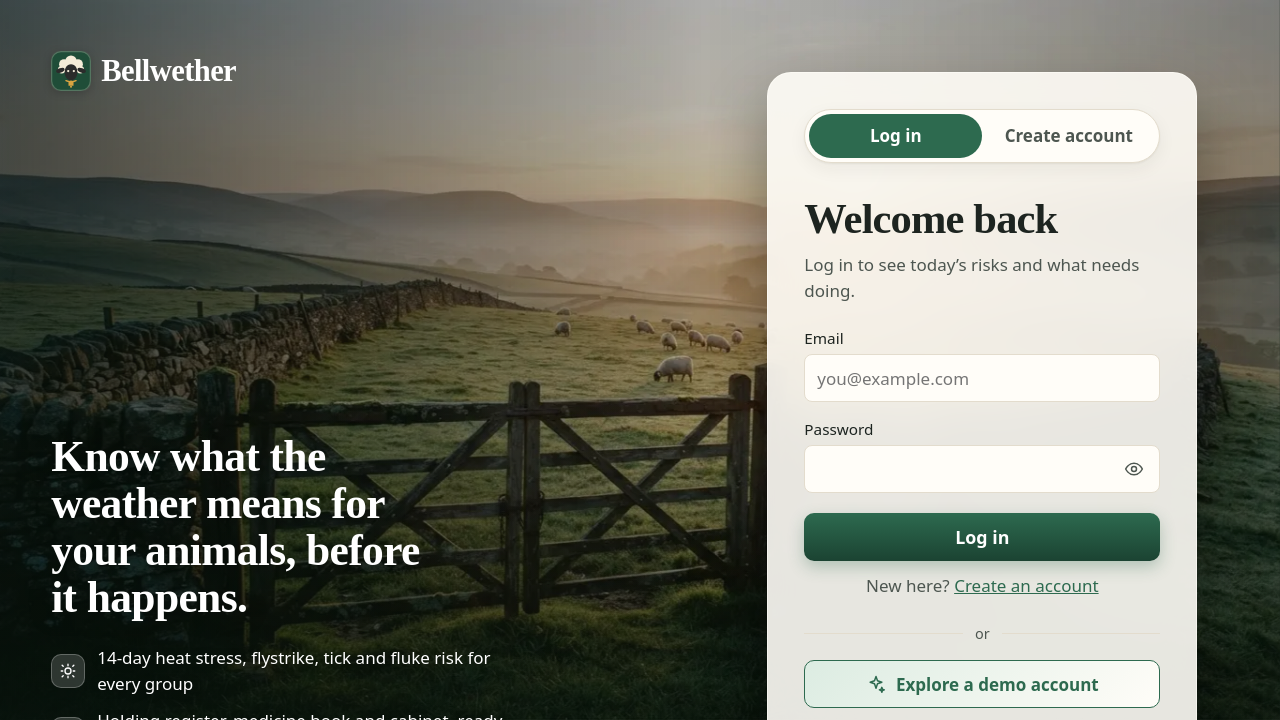
Test case: AuthPage (FR-8.1) › says so if the demo can’t be built
Click the button "Explore a demo account".
click(982, 684)  # box [804, 660, 1160, 708]
(page scrolled)
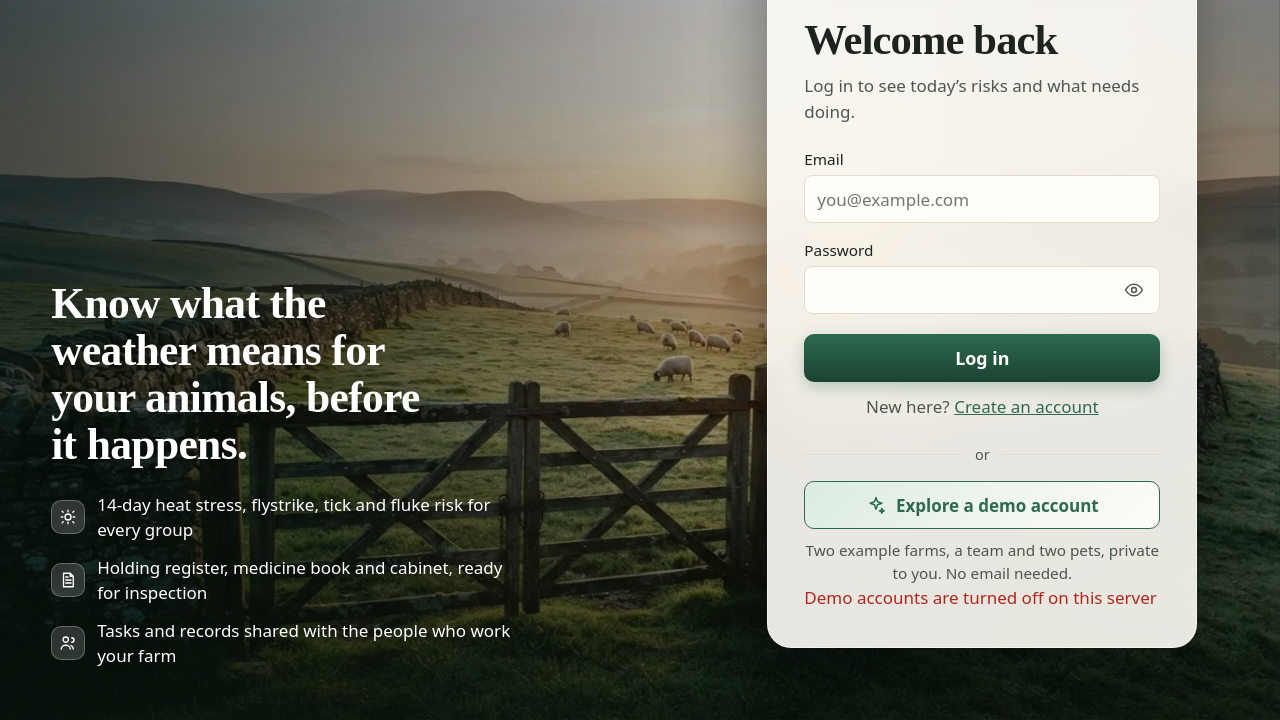
Now the message shows "turned off", box [804, 586, 1157, 609]
